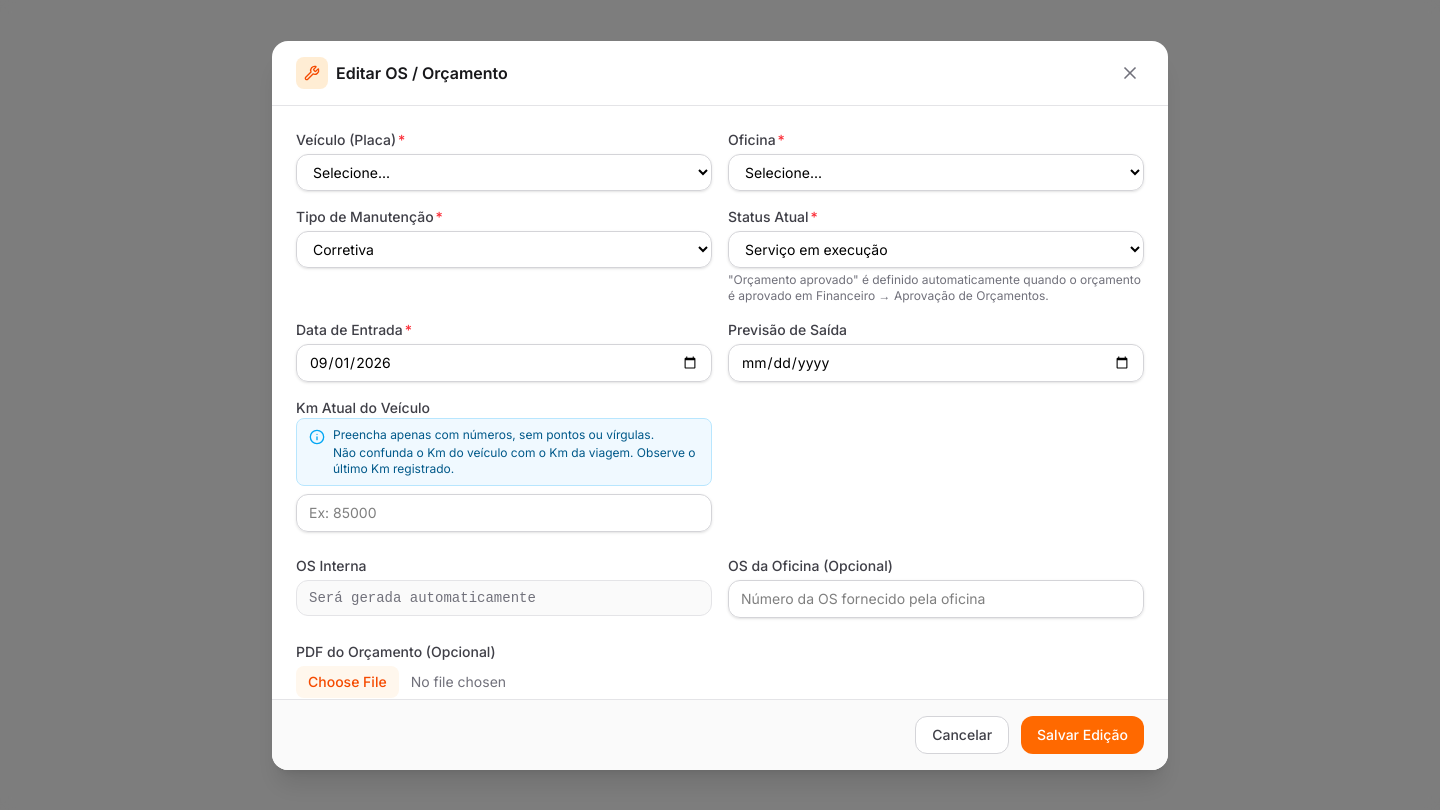
Test: MaintenanceForm — trava de orçamento › 6. recusa o salvamento sem motivo, antes da rede
Select "Serviço em execução" in the dropdown with id "status" at (936, 249), box [728, 230, 1144, 268]
(page scrolled)
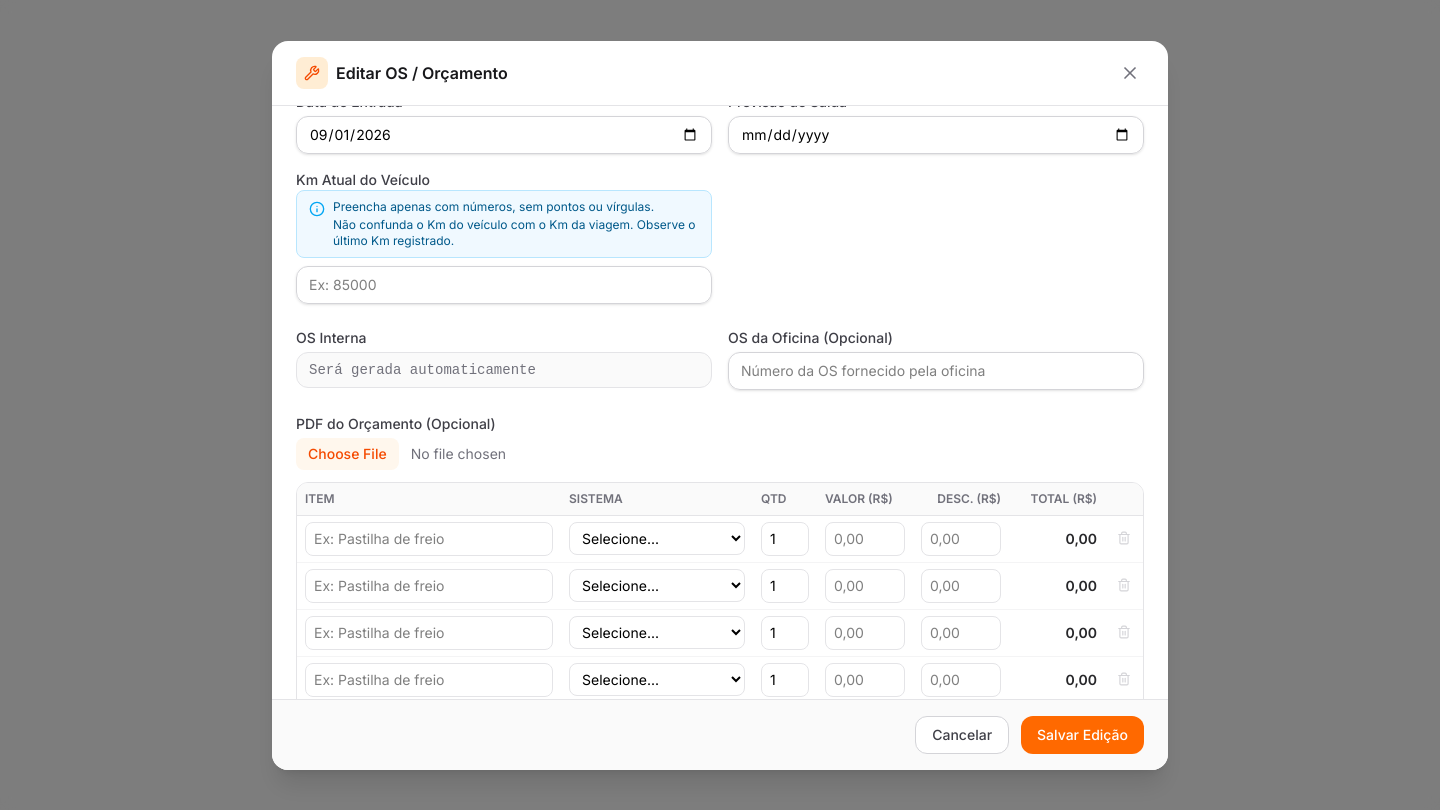
Submit the form
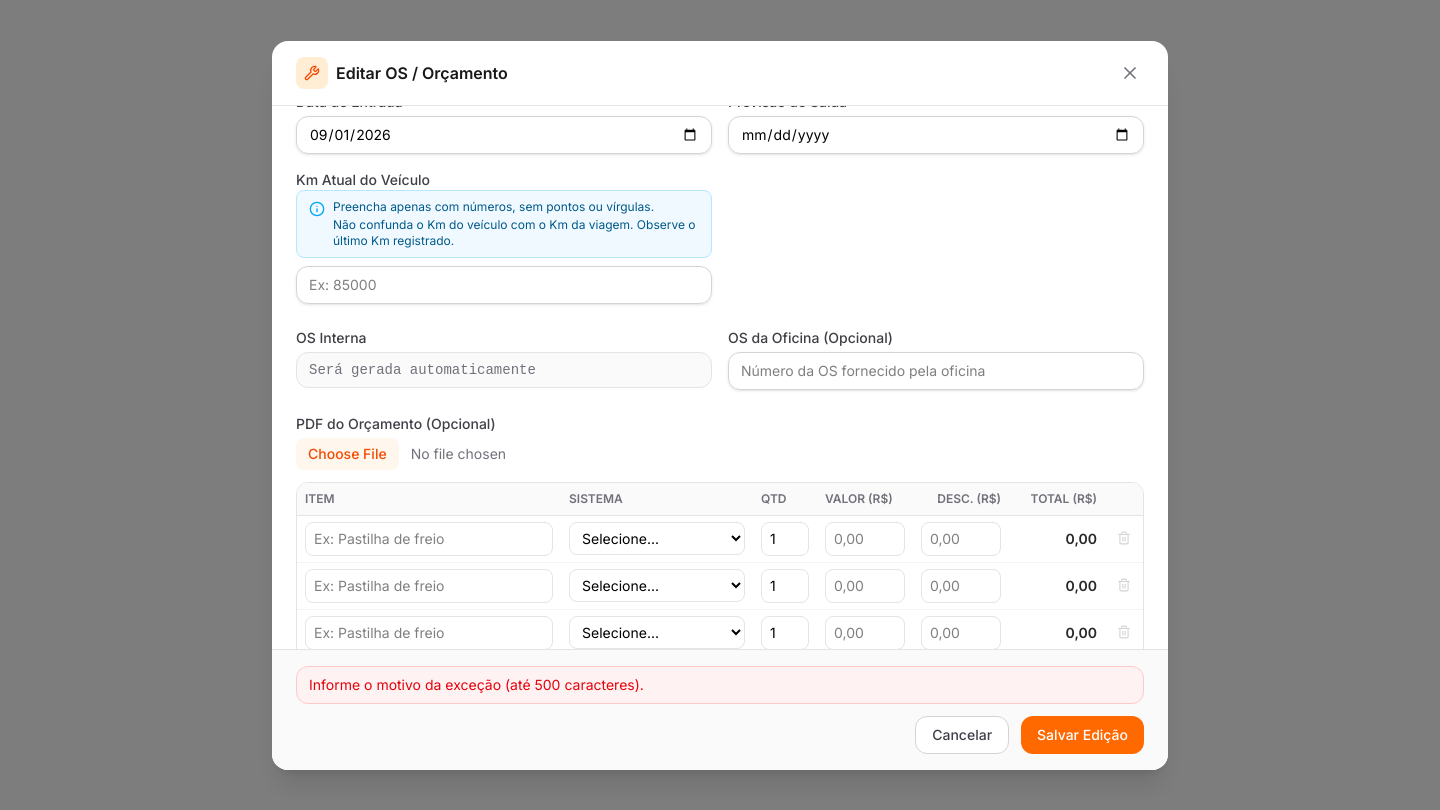
Expected: the text "Informe o motivo da exceção (até 500 caracteres)." is shown, [296, 666, 1144, 704]
